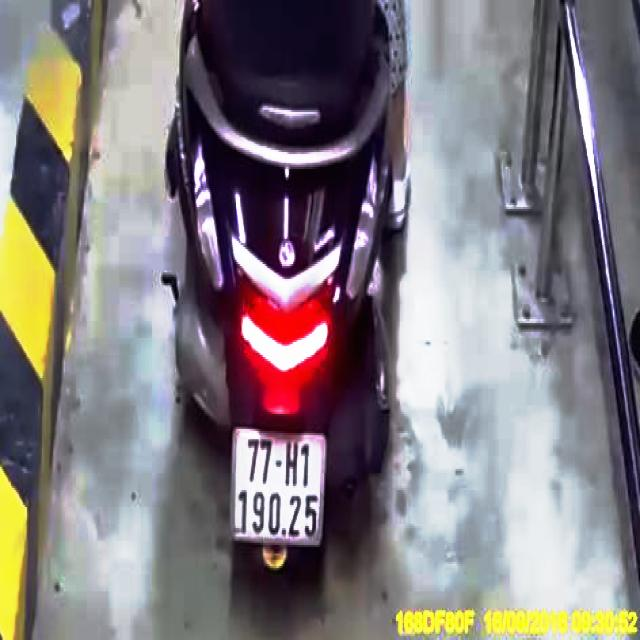license_plate: (232, 433, 324, 545)
